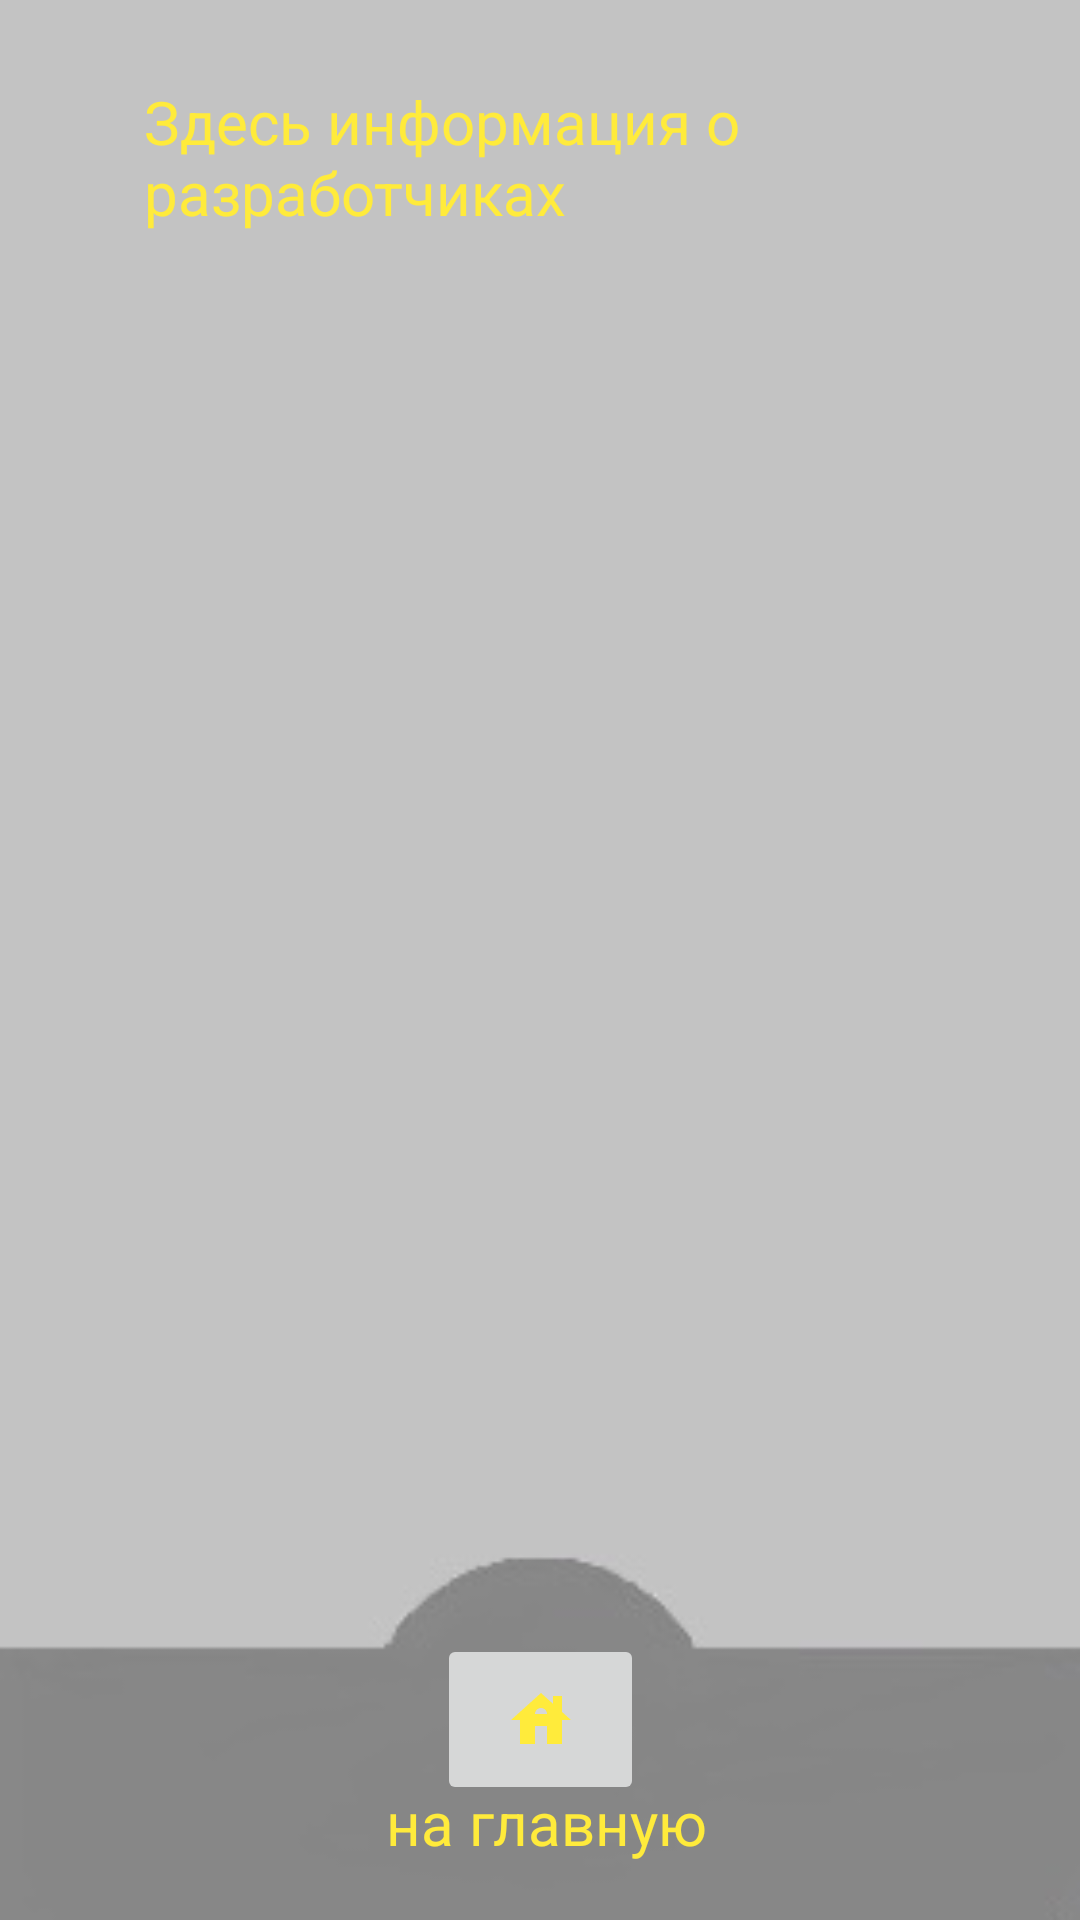

Icons on this 1080px x 1920px Android screen, each with the point to tap as [x,y]:
house: [540,1719]
